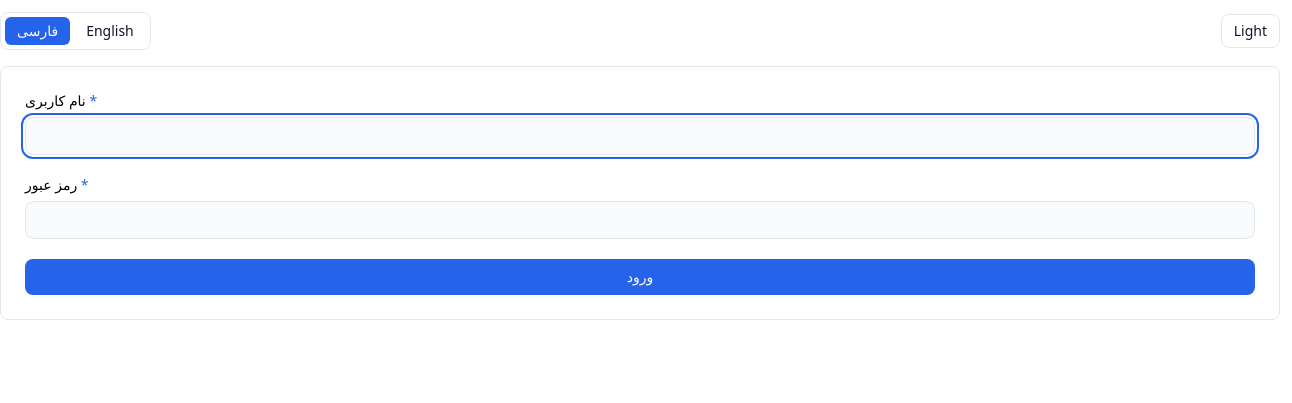
Scenario: invalid credentials › shows the localized fa message on the fa form
Type "ghost" into the field labelled "نام کاربری *". click: (640, 136)
box: [25, 117, 1255, 155]
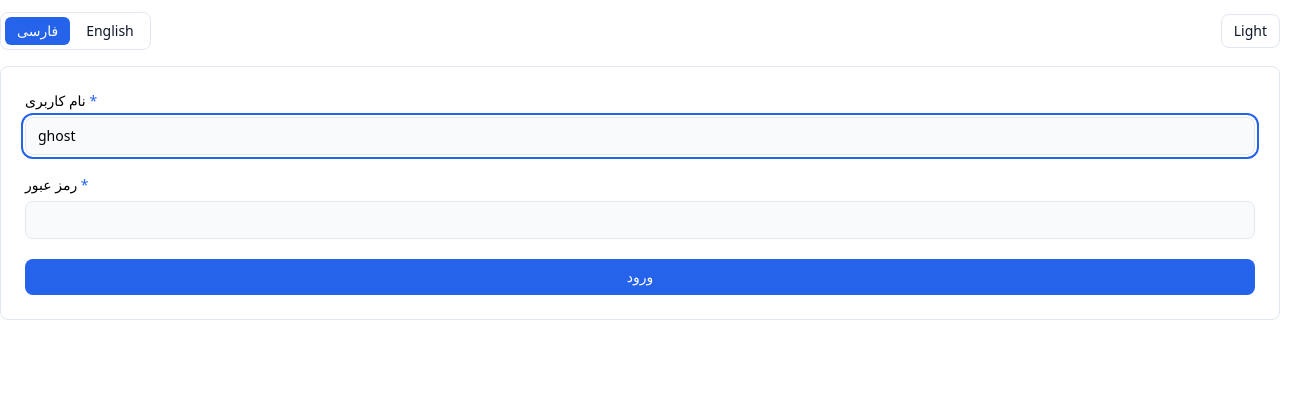
Type "wrong" into the password field labelled "رمز عبور *". click: (640, 220)
box: [25, 201, 1255, 239]
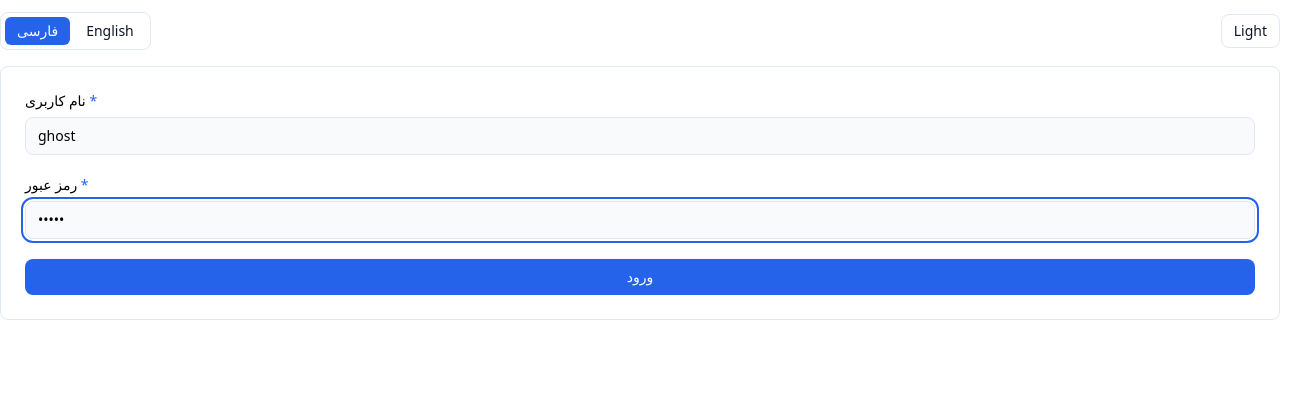
Click the button "ورود". click: (640, 277)
box: [25, 259, 1255, 295]
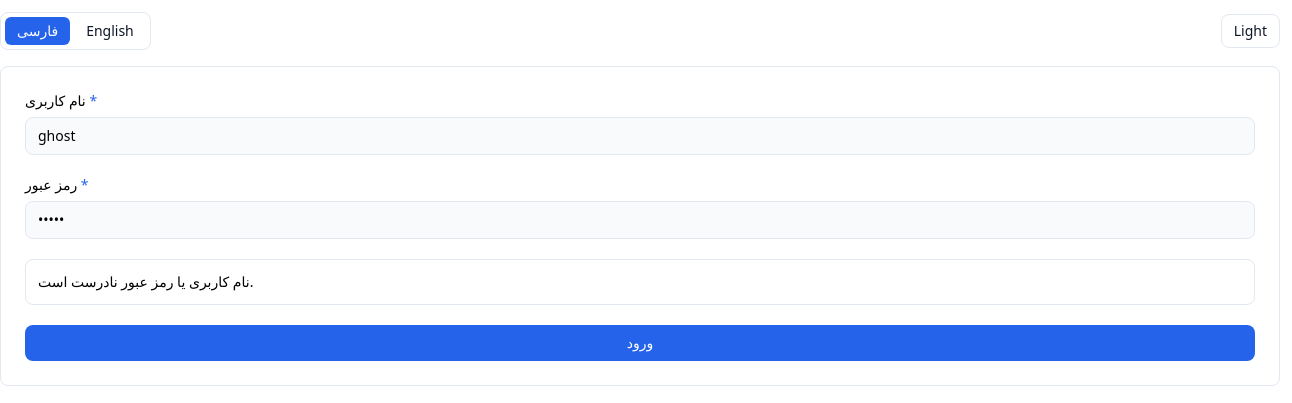
Now the message reads "نام کاربری یا رمز عبور نادرست است.", box [38, 272, 253, 291]
